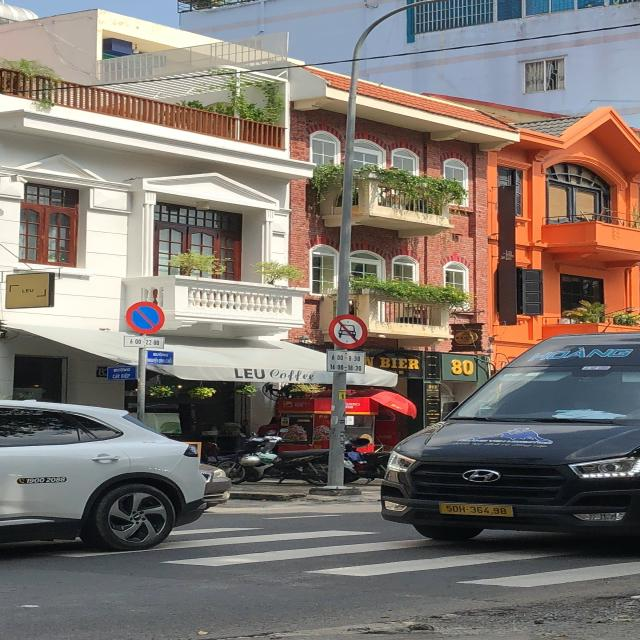Bien bao cam do xe: (121, 299, 168, 336)
Bien bao cam xe oto: (326, 313, 372, 351)
